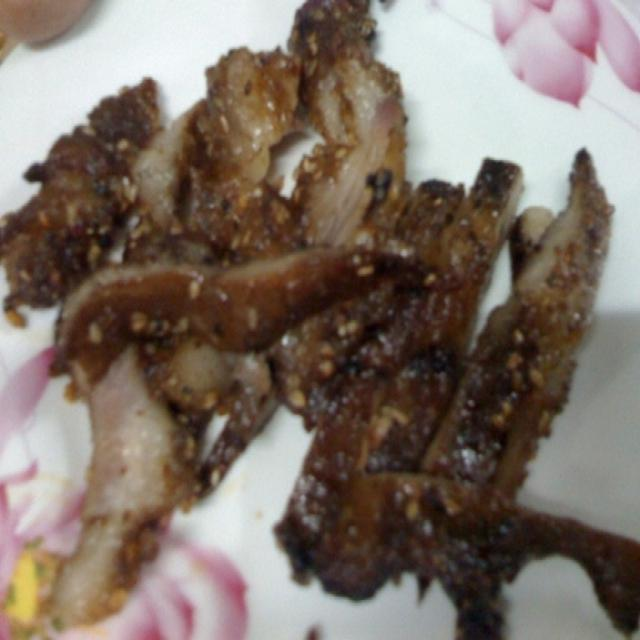猪肉菜式: (31, 28, 609, 628)
